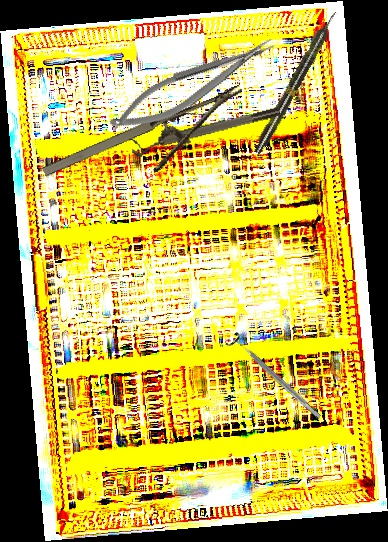Fixation Ring: (224, 330, 327, 425), (129, 104, 283, 159)
Handpiece: (250, 8, 342, 157)
Needle Holder: (39, 84, 259, 210), (101, 30, 284, 142)
